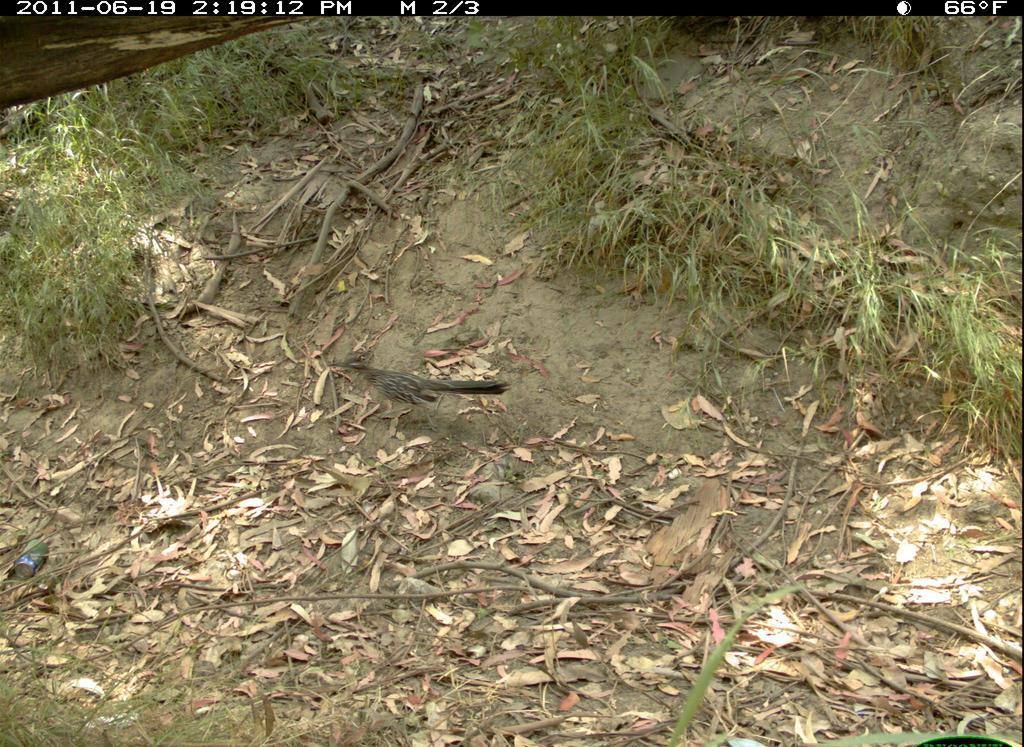bird: (336, 351, 515, 442)
